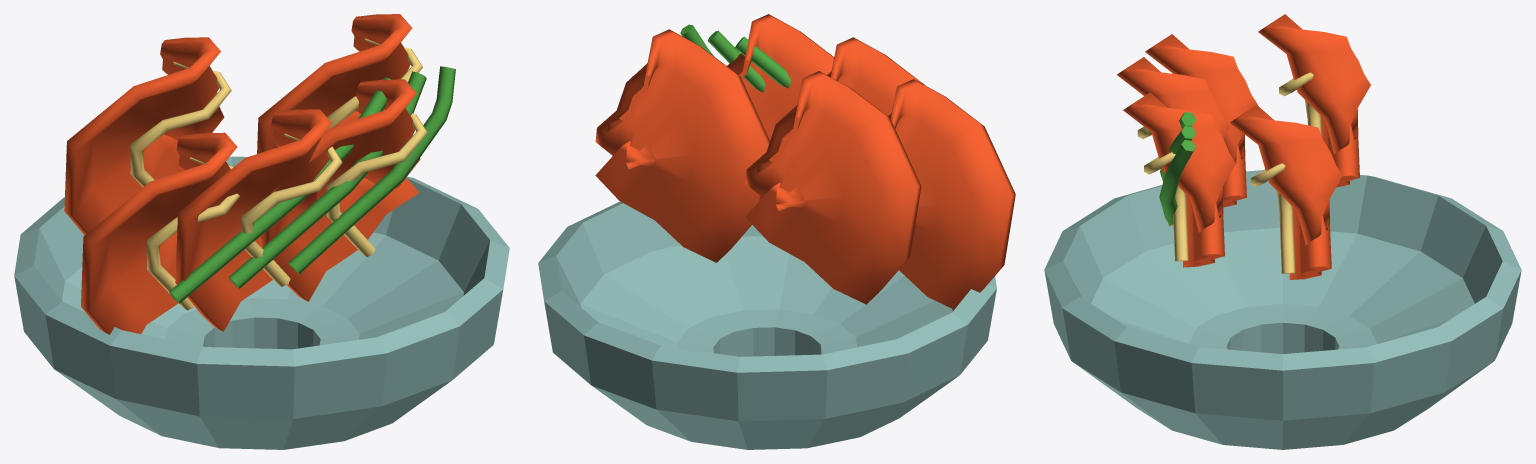
The model's file is kimchi.obj.
3 renders of one model, left to right at view 1: azimuth 30°, elevation 25°; view 2: azimuth 150°, elevation 25°; view 3: azimuth 270°, elevation 25°, orthographic. The views are drawn at different scales.
Parts seen in each view (by area): view 1: A_StonewareDish.001_kimchi_stoneware, B_FoldedLeaf4.001_kimchi_chili_cabbage, B_FoldedLeaf0.001_kimchi_chili_cabbage, B_FoldedLeaf1.001_kimchi_chili_cabbage, B_FoldedLeaf2.001_kimchi_chili_cabbage, B_FoldedLeaf3.001_kimchi_chili_cabbage, D_Scallion2.001_kimchi_scallion, D_Scallion1.001_kimchi_scallion, D_Scallion0.001_kimchi_scallion, C_PaleLeafRib1.001_kimchi_cabbage_rib, C_PaleLeafRib4.001_kimchi_cabbage_rib, C_PaleLeafRib2.001_kimchi_cabbage_rib (+2 smaller); view 2: A_StonewareDish.001_kimchi_stoneware, B_FoldedLeaf4.001_kimchi_chili_cabbage, B_FoldedLeaf3.001_kimchi_chili_cabbage, B_FoldedLeaf0.001_kimchi_chili_cabbage, B_FoldedLeaf2.001_kimchi_chili_cabbage, B_FoldedLeaf1.001_kimchi_chili_cabbage, D_Scallion0.001_kimchi_scallion, D_Scallion1.001_kimchi_scallion; view 3: A_StonewareDish.001_kimchi_stoneware, B_FoldedLeaf3.001_kimchi_chili_cabbage, B_FoldedLeaf4.001_kimchi_chili_cabbage, B_FoldedLeaf2.001_kimchi_chili_cabbage, B_FoldedLeaf0.001_kimchi_chili_cabbage, B_FoldedLeaf1.001_kimchi_chili_cabbage, C_PaleLeafRib3.001_kimchi_cabbage_rib, C_PaleLeafRib2.001_kimchi_cabbage_rib, D_Scallion2.001_kimchi_scallion, C_PaleLeafRib4.001_kimchi_cabbage_rib.
Boxes of the visible parts, box(x1,y1,x2,y2) form: A_StonewareDish.001_kimchi_stoneware: box(14, 156, 509, 449); B_FoldedLeaf4.001_kimchi_chili_cabbage: box(64, 37, 224, 235); B_FoldedLeaf0.001_kimchi_chili_cabbage: box(81, 132, 237, 334); B_FoldedLeaf1.001_kimchi_chili_cabbage: box(175, 109, 331, 331); B_FoldedLeaf2.001_kimchi_chili_cabbage: box(261, 79, 420, 301); B_FoldedLeaf3.001_kimchi_chili_cabbage: box(257, 14, 412, 153); D_Scallion2.001_kimchi_scallion: box(288, 66, 455, 273); D_Scallion1.001_kimchi_scallion: box(228, 71, 426, 288); D_Scallion0.001_kimchi_scallion: box(169, 77, 390, 303); C_PaleLeafRib1.001_kimchi_cabbage_rib: box(241, 133, 342, 286); C_PaleLeafRib4.001_kimchi_cabbage_rib: box(130, 62, 231, 187); C_PaleLeafRib2.001_kimchi_cabbage_rib: box(326, 109, 427, 256); A_StonewareDish.001_kimchi_stoneware: box(538, 201, 996, 449); B_FoldedLeaf4.001_kimchi_chili_cabbage: box(745, 71, 921, 304); B_FoldedLeaf3.001_kimchi_chili_cabbage: box(595, 29, 769, 262); B_FoldedLeaf0.001_kimchi_chili_cabbage: box(888, 79, 1015, 309); B_FoldedLeaf2.001_kimchi_chili_cabbage: box(727, 14, 834, 140); B_FoldedLeaf1.001_kimchi_chili_cabbage: box(827, 37, 924, 115); D_Scallion0.001_kimchi_scallion: box(735, 36, 791, 88); D_Scallion1.001_kimchi_scallion: box(707, 30, 765, 92); A_StonewareDish.001_kimchi_stoneware: box(1044, 170, 1521, 449); B_FoldedLeaf3.001_kimchi_chili_cabbage: box(1230, 105, 1342, 279); B_FoldedLeaf4.001_kimchi_chili_cabbage: box(1258, 14, 1370, 187); B_FoldedLeaf2.001_kimchi_chili_cabbage: box(1123, 92, 1235, 267); B_FoldedLeaf0.001_kimchi_chili_cabbage: box(1145, 34, 1257, 207); B_FoldedLeaf1.001_kimchi_chili_cabbage: box(1117, 57, 1229, 138); C_PaleLeafRib3.001_kimchi_cabbage_rib: box(1250, 163, 1295, 273); C_PaleLeafRib2.001_kimchi_cabbage_rib: box(1144, 152, 1188, 261); D_Scallion2.001_kimchi_scallion: box(1159, 140, 1195, 224); C_PaleLeafRib4.001_kimchi_cabbage_rib: box(1279, 72, 1321, 136).
Size of the model in its own units: 1.54 by 1.17 by 1.52.
